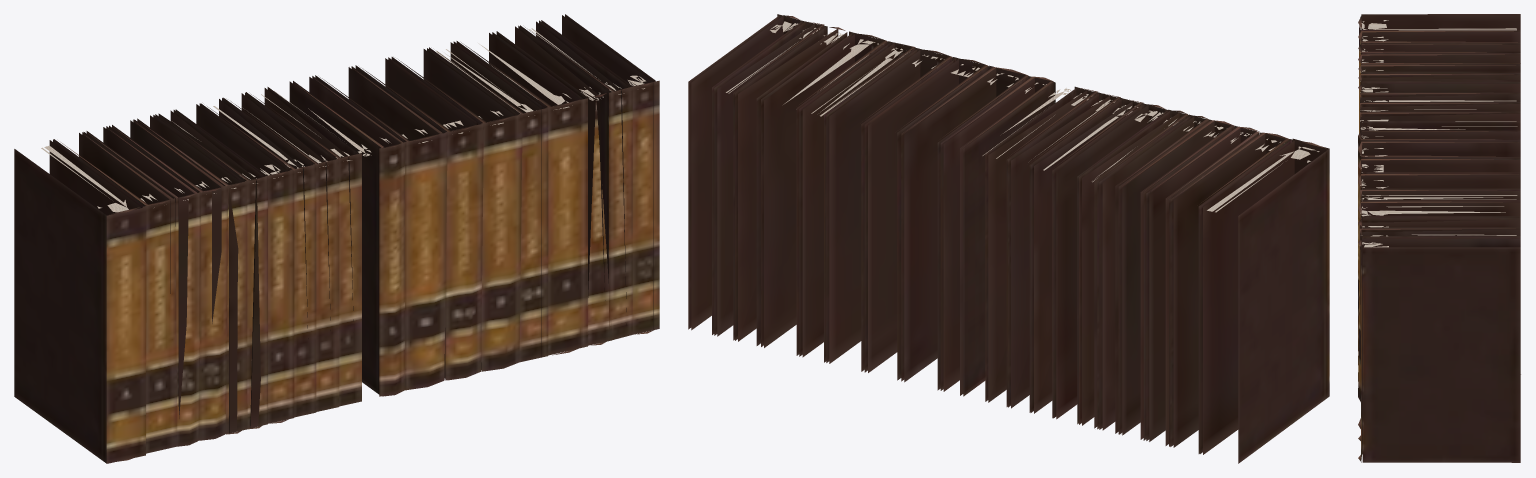
File: books.glb
3 renders of one model, left to right at view 1: azimuth 30°, elevation 25°; view 2: azimuth 150°, elevation 25°; view 3: azimuth 270°, elevation 25°, orthographic. The views are drawn at different scales.
Parts seen in each view (by area): view 1: book_encyclopedia_set_01_book01; view 2: book_encyclopedia_set_01_book01; view 3: book_encyclopedia_set_01_book01.
Part boxes in pixels (x1,y1,x2,y2): book_encyclopedia_set_01_book01: (14, 14, 659, 463); book_encyclopedia_set_01_book01: (688, 14, 1329, 463); book_encyclopedia_set_01_book01: (1358, 14, 1520, 462).
Size of the model in its own units: 0.554 by 0.2374 by 0.1637.
Materials: 2 (2 with a texture image).
